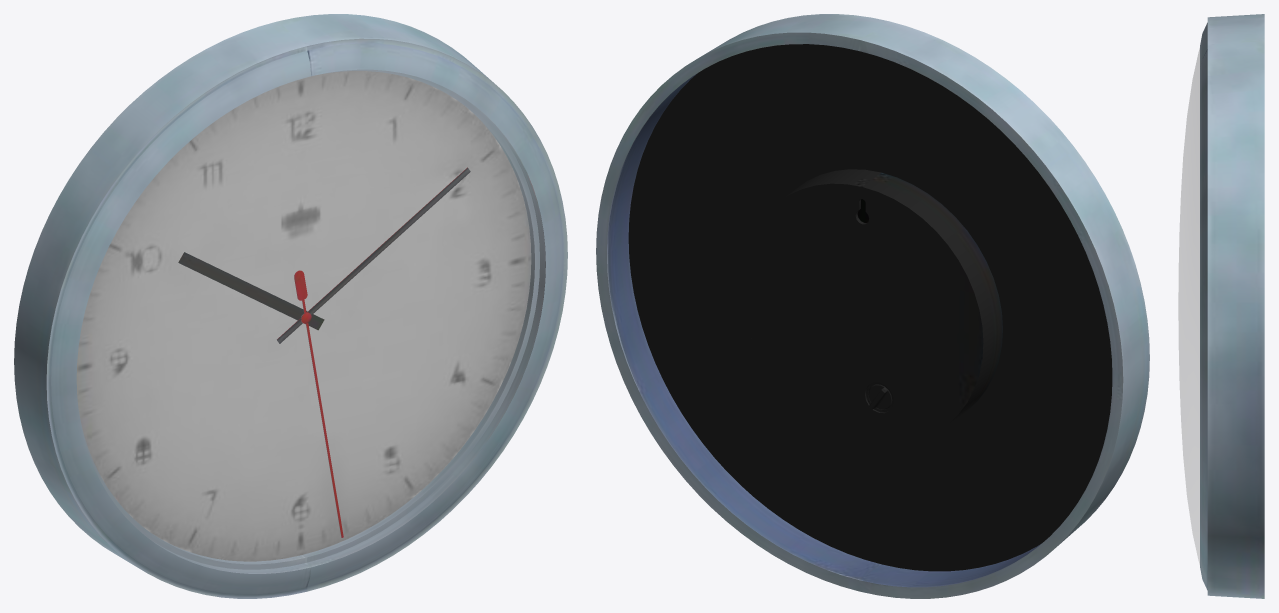
Rendered from wallClock.glb.
The picture shows the model from 3 angles, left to right: view 1: azimuth 30°, elevation 25°; view 2: azimuth 150°, elevation 25°; view 3: azimuth 270°, elevation 25°; orthographic projection. The views are drawn at different scales.
Visible parts, largest first — view 1: wall_clock, wall_clock_hours_hand, wall_clock_minute_hand, wall_clock_second_hand; view 2: wall_clock; view 3: wall_clock.
Boxes of the visible parts, x1,y1,x2,y2 form: wall_clock: (14, 14, 567, 598); wall_clock_hours_hand: (178, 252, 324, 330); wall_clock_minute_hand: (277, 167, 470, 343); wall_clock_second_hand: (294, 270, 343, 537); wall_clock: (596, 14, 1149, 598); wall_clock: (1178, 14, 1264, 598).
Size of the model in its own units: 0.3205 by 0.3205 by 0.0472.
2 materials, 1 textured.
